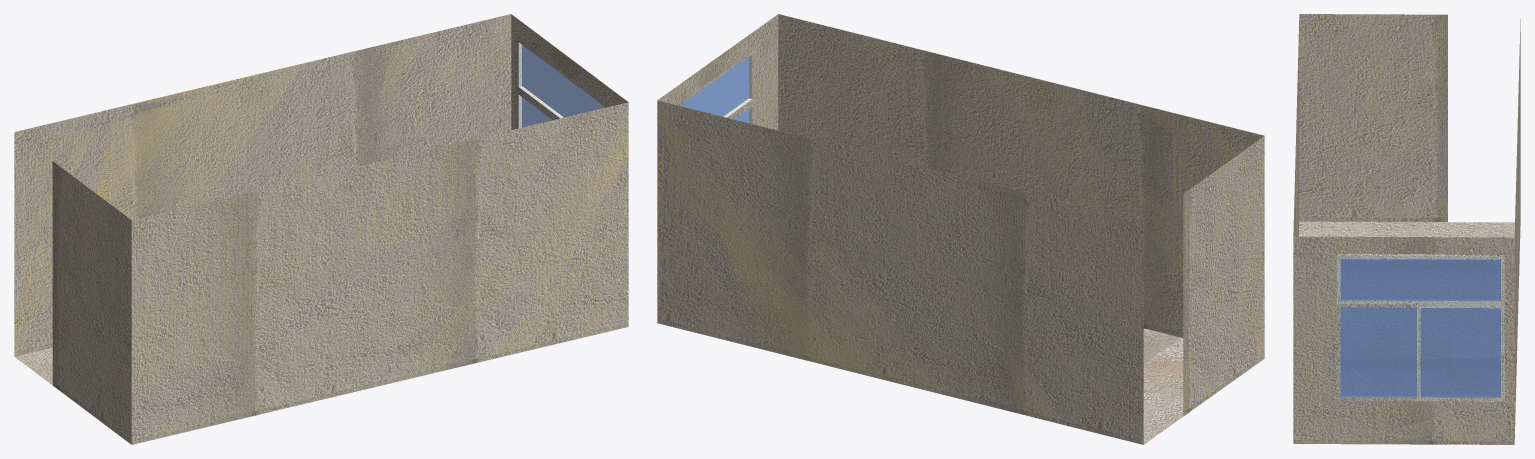
The model's file is DES014.obj.
3 views of the same model, side by side, from view 1: azimuth 30°, elevation 25°; view 2: azimuth 150°, elevation 25°; view 3: azimuth 270°, elevation 25° (orthographic). The views are drawn at different scales.
Parts seen in each view (by area): view 1: Mesh7 DES014 Model, Mesh1 ventana1_1_1 DES014 Model; view 2: Mesh7 DES014 Model, Mesh1 ventana1_1_1 DES014 Model; view 3: Mesh7 DES014 Model, Mesh1 ventana1_1_1 DES014 Model.
Boxes of the visible parts, x1,y1,x2,y2 form: Mesh7 DES014 Model: (14,14,628,444); Mesh1 ventana1_1_1 DES014 Model: (516,37,605,128); Mesh7 DES014 Model: (657,14,1264,444); Mesh1 ventana1_1_1 DES014 Model: (677,49,754,124); Mesh7 DES014 Model: (1293,14,1520,444); Mesh1 ventana1_1_1 DES014 Model: (1337,254,1504,401).
Bounding box in the file's own units: 6.98 × 3 × 2.98.
7 materials, 2 textured.
